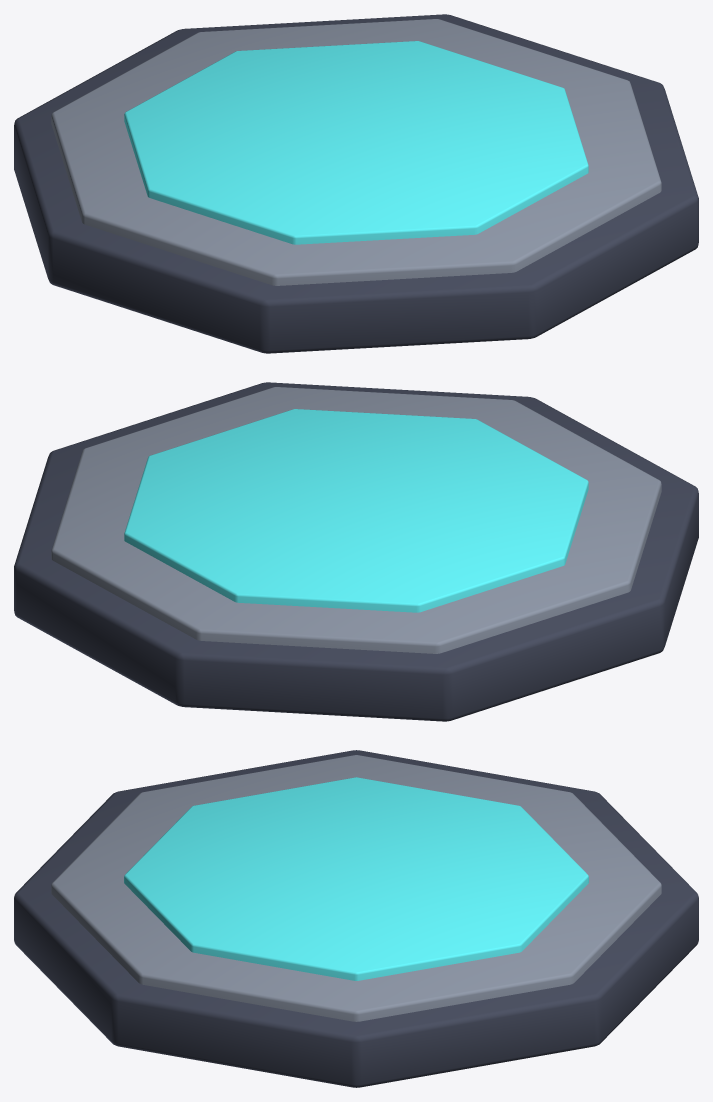
The model's file is Jump_Pad.fbx.
The picture shows the model from 3 angles, top to bottom: view 1: azimuth 30°, elevation 25°; view 2: azimuth 150°, elevation 25°; view 3: azimuth 270°, elevation 25°; orthographic projection. The views are drawn at different scales.
Parts seen in each view (by area): view 1: JumpPad_Core, JumpPad_Base, JumpPad_Rim; view 2: JumpPad_Core, JumpPad_Base, JumpPad_Rim; view 3: JumpPad_Core, JumpPad_Base, JumpPad_Rim.
Boxes of the visible parts, box(x1,y1,x2,y2) form: JumpPad_Core: box(124, 41, 588, 244); JumpPad_Base: box(14, 14, 698, 353); JumpPad_Rim: box(51, 19, 661, 285); JumpPad_Core: box(124, 409, 588, 612); JumpPad_Base: box(14, 382, 698, 721); JumpPad_Rim: box(51, 387, 661, 653); JumpPad_Core: box(124, 777, 588, 980); JumpPad_Base: box(14, 750, 698, 1087); JumpPad_Rim: box(51, 755, 661, 1021).
Size of the model in its own units: 3.09 by 0.35 by 3.09.
